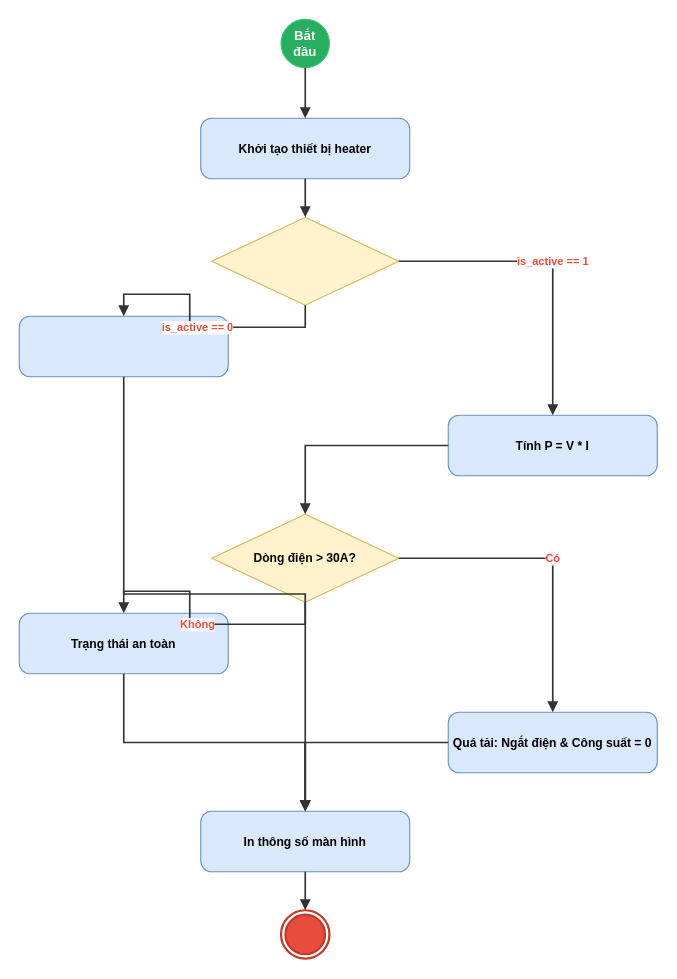
The diagram is 677 pixels wide and 979 high, and some of its shapes have lost their labels. Each missing label, with the box of its shape:
Công suất bằng 0: (18, 315, 228, 377)
Kết thúc: (279, 909, 330, 959)
Thiết bị đang BẬT?: (211, 216, 399, 305)
